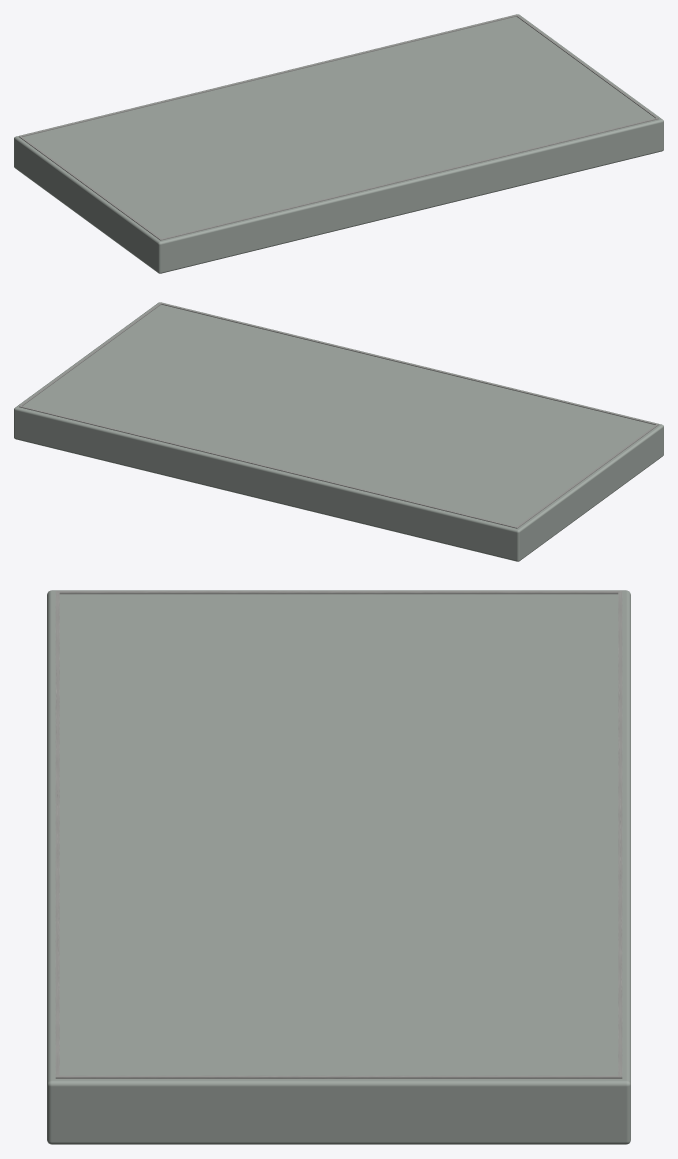
Rendered from prison-complex-builder-stair-landing-41d54a71__25614.glb.
3 renders of one model, top to bottom at view 1: azimuth 30°, elevation 25°; view 2: azimuth 150°, elevation 25°; view 3: azimuth 270°, elevation 25°, orthographic. The views are drawn at different scales.
Parts seen in each view (by area): view 1: stair-landing; view 2: stair-landing; view 3: stair-landing.
Part boxes in pixels (bbox=[...]): stair-landing: bbox=[14, 14, 663, 273]; stair-landing: bbox=[14, 302, 663, 561]; stair-landing: bbox=[47, 590, 630, 1144].
Bounding box in the file's own units: 2 × 0.1229 × 1.
2 materials, 1 textured.
